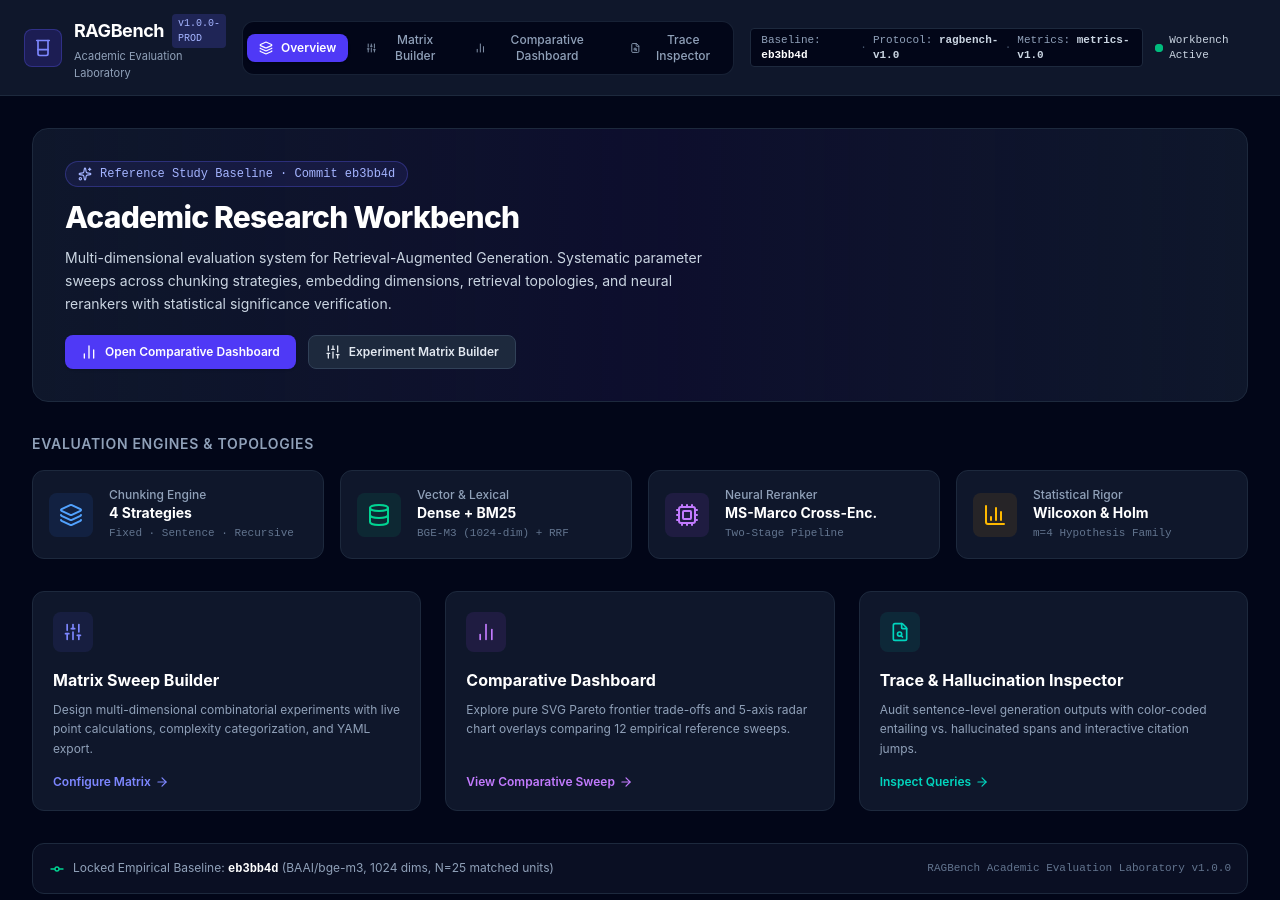
RAGBench Academic Workbench App › navigates between all four workbench tabs via header
Note: Switch to Matrix Builder
Step 1. Click the button with test id "tab-matrix" → (406, 48), box x1=354 y1=26 x2=457 y2=70
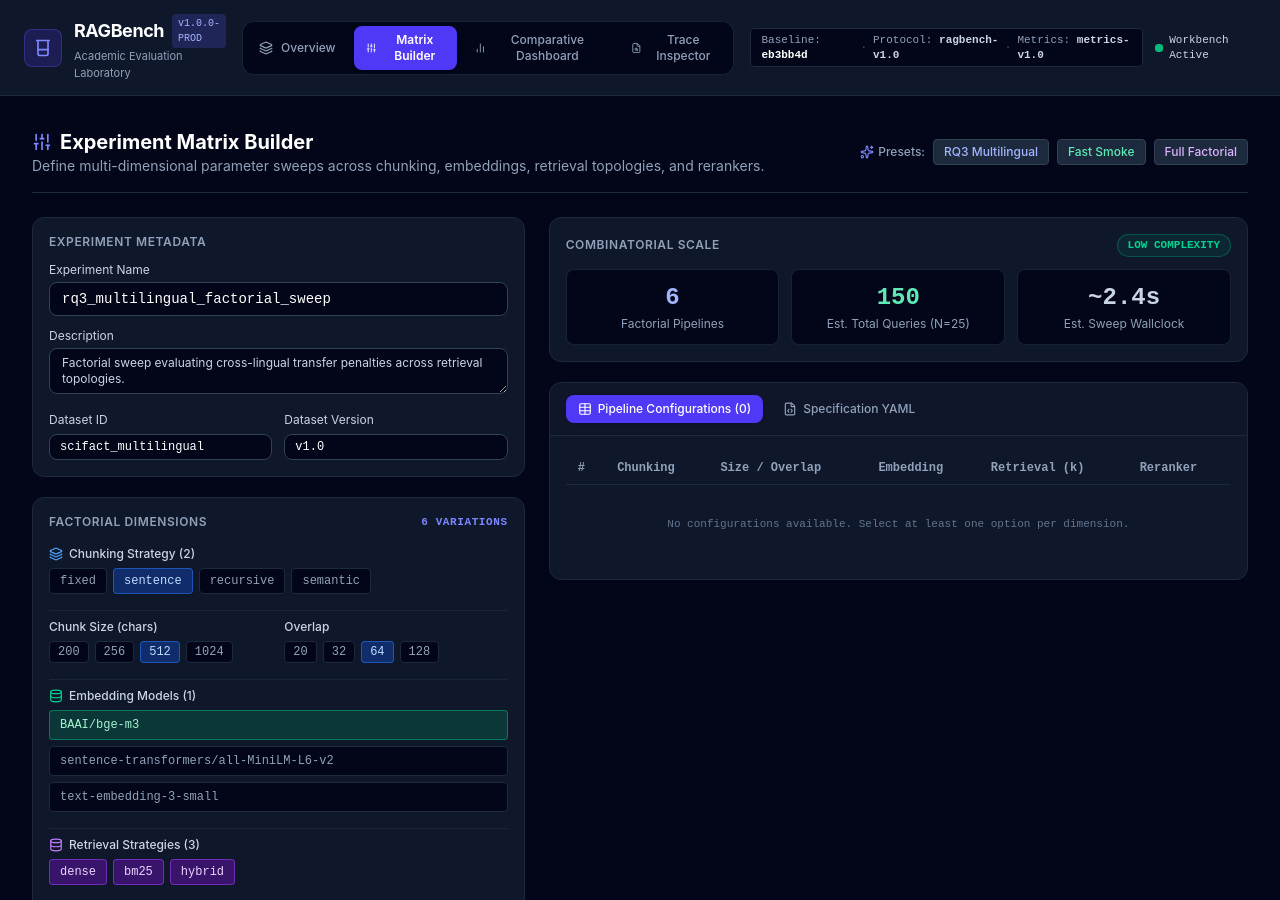
Expected: the heading "Experiment Matrix Builder" is shown, x1=32 y1=130 x2=313 y2=154
Note: Switch to Comparative Dashboard
Step 2. Click the button with test id "tab-compare" → (538, 48), box x1=464 y1=26 x2=613 y2=70
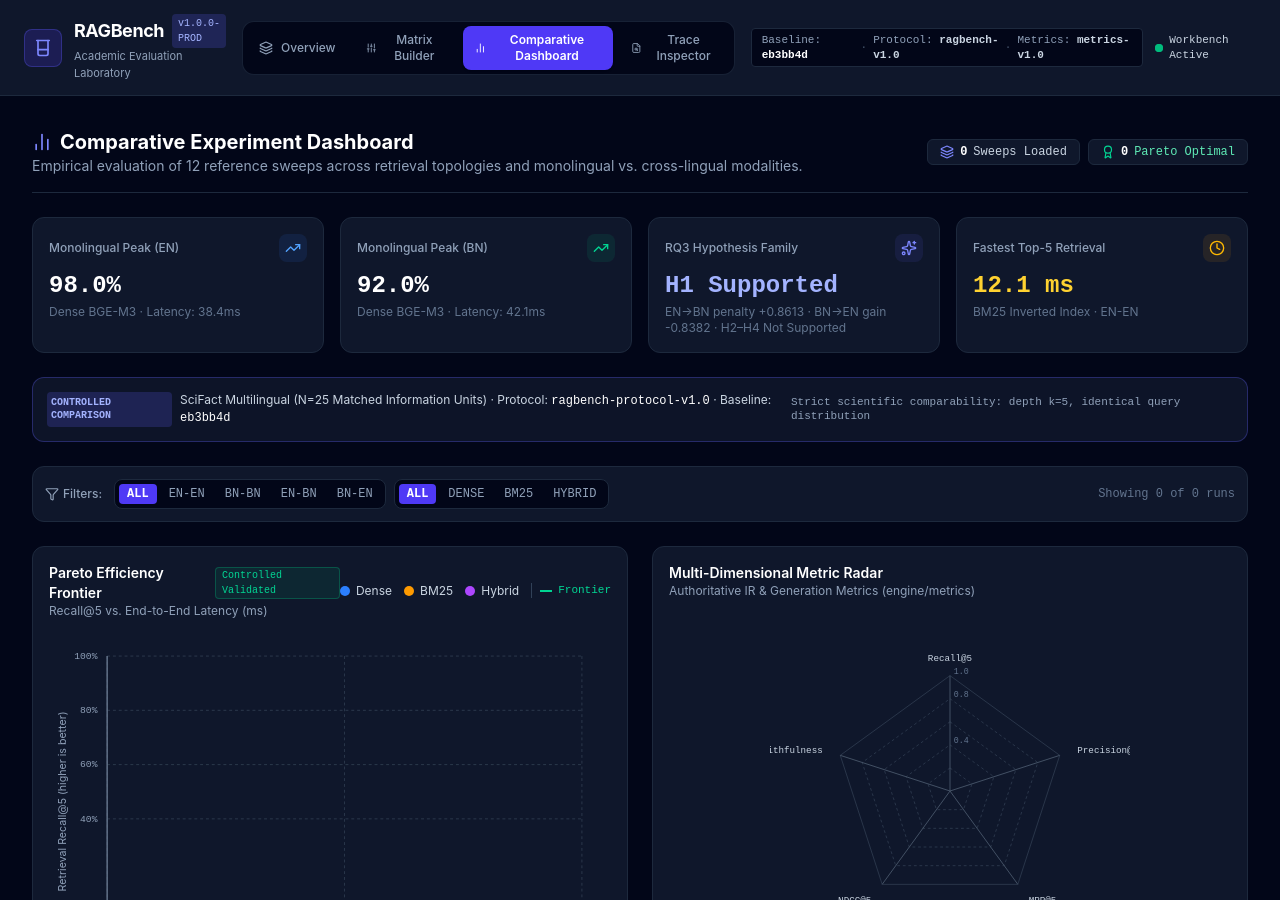
Expected: the heading "Comparative Experiment Dashboard" is shown, x1=32 y1=130 x2=414 y2=154
Note: Switch to Trace Inspector
Step 3. Click the button with test id "tab-trace" → (674, 48), box x1=619 y1=26 x2=730 y2=70
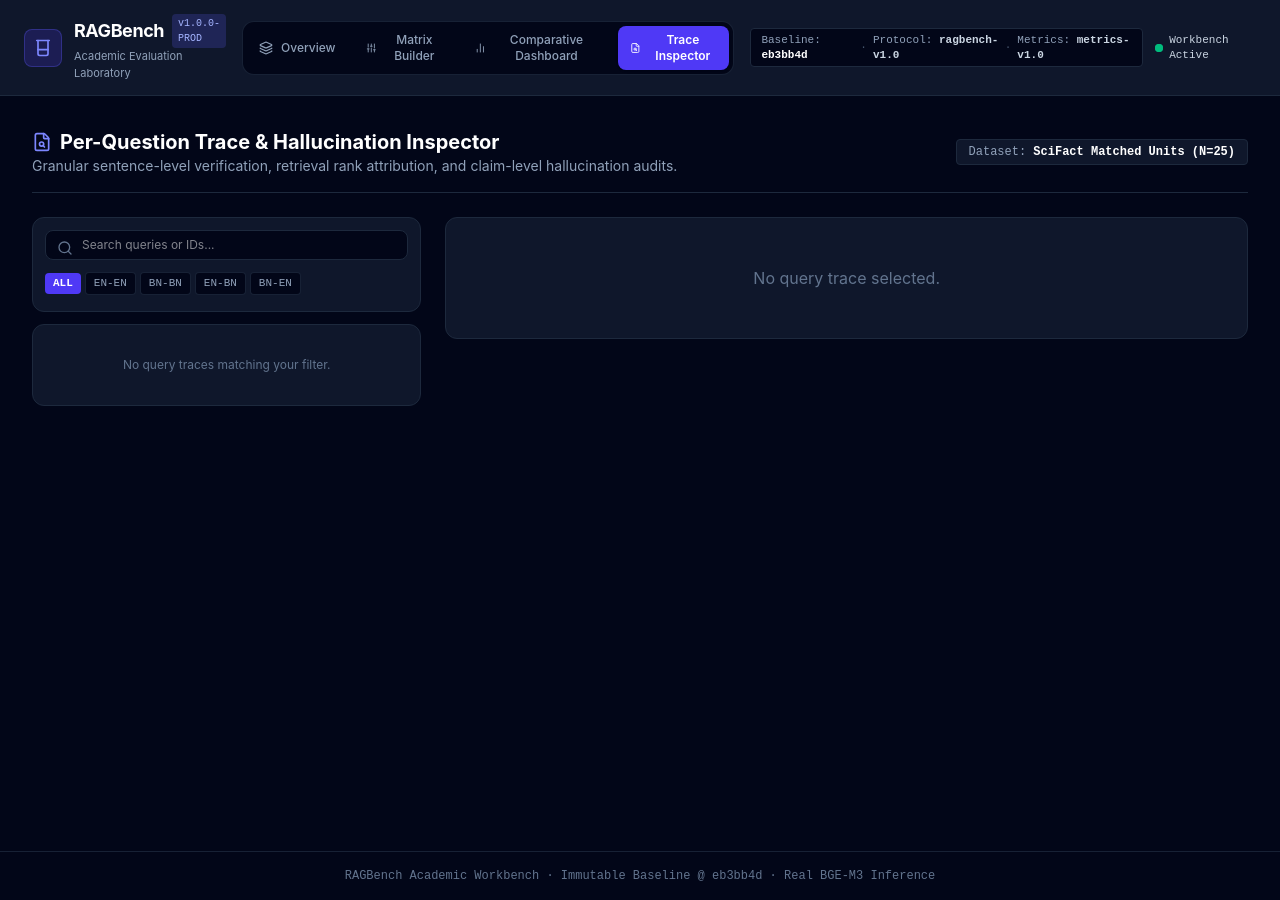
Expected: the heading "Per-Question Trace & Hallucination Inspector" is shown, x1=32 y1=130 x2=500 y2=154
Note: Switch back to Overview
Step 4. Click the button with test id "tab-overview" → (297, 48), box x1=247 y1=34 x2=348 y2=62
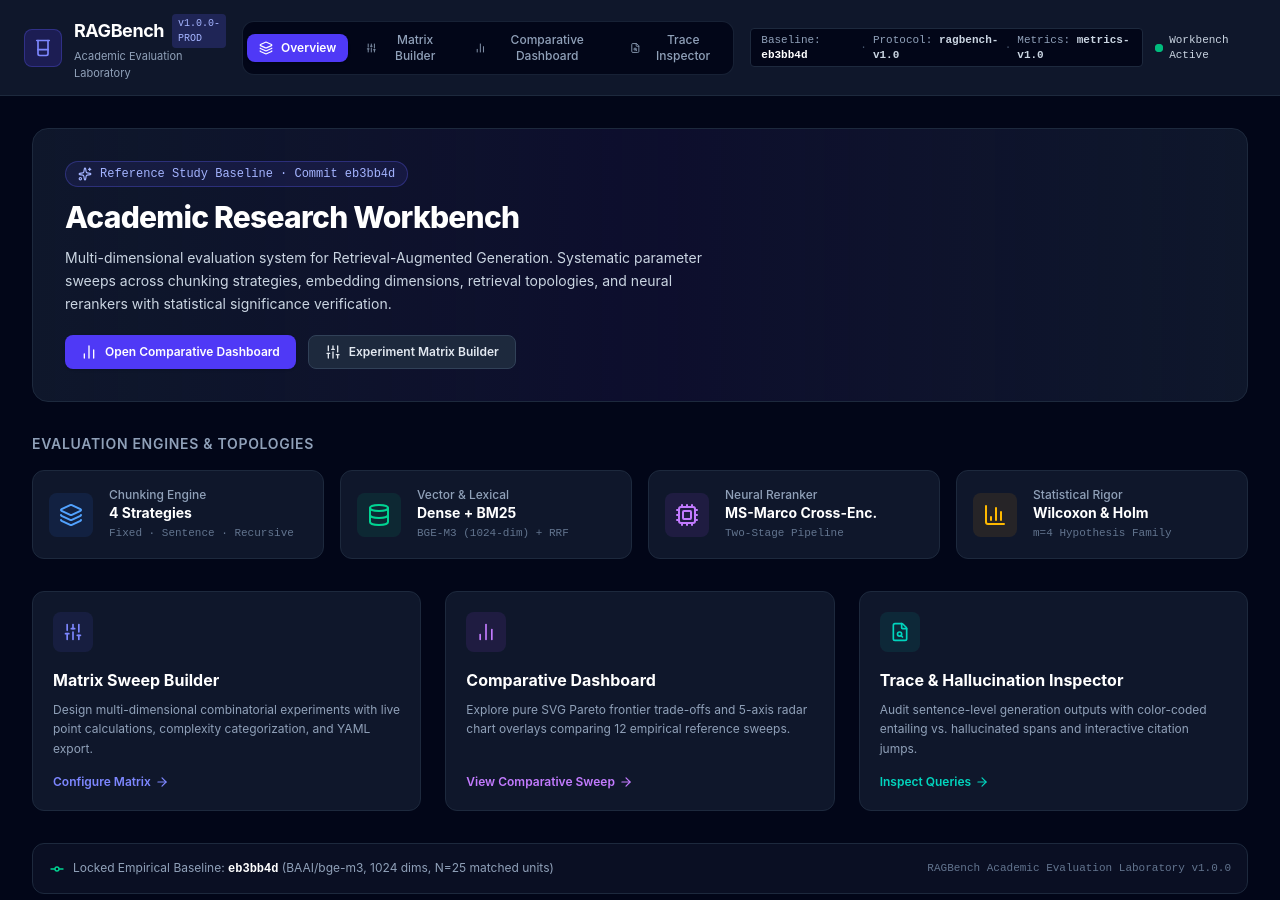
Expected: the heading "Academic Research Workbench" is shown, x1=65 y1=199 x2=519 y2=235
